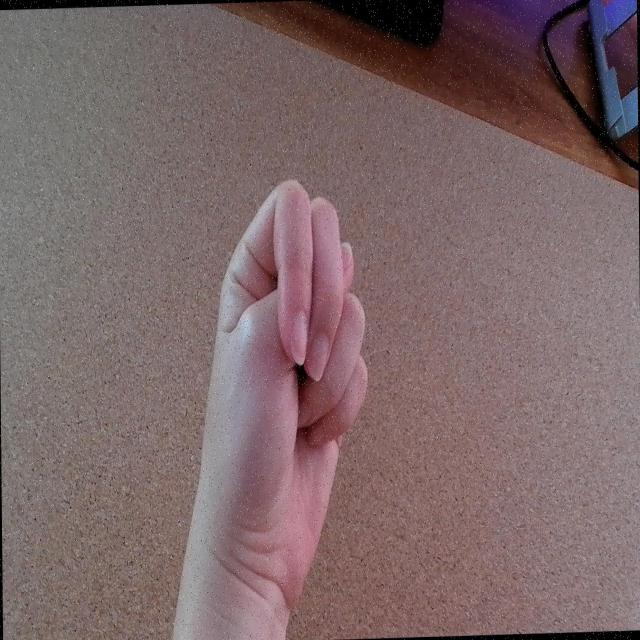N: (201, 172, 372, 598)
